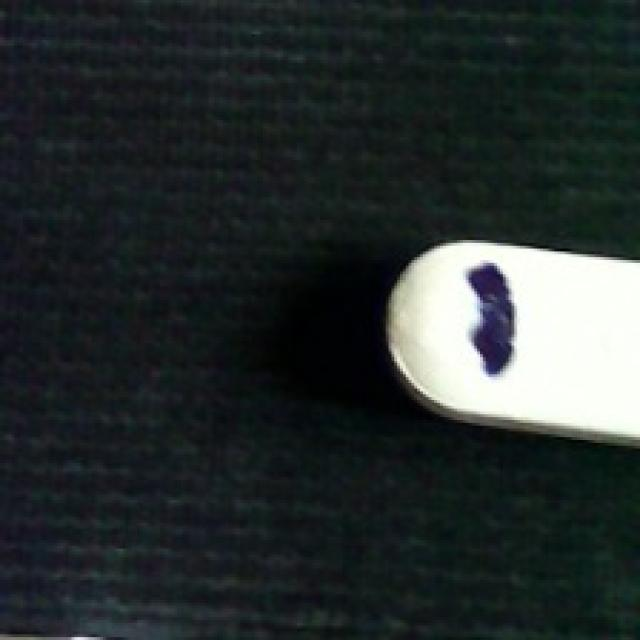defected: (374, 231, 637, 443)
